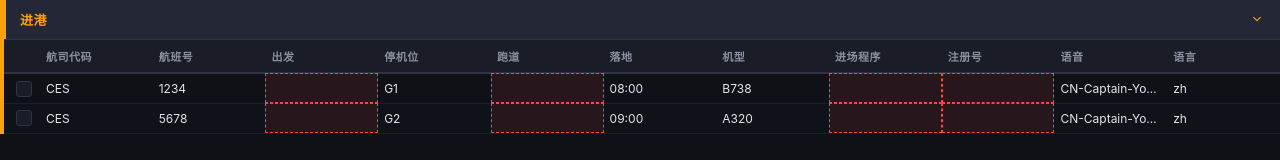
Test: FlightTable — Voice dropdown is constrained to the flight Language › keeps a legacy mismatched current voice selectable (never blank)
Step 1. Click the cell "CN-Captain-Young-EN" → (1111, 118), box [1054, 103, 1167, 133]
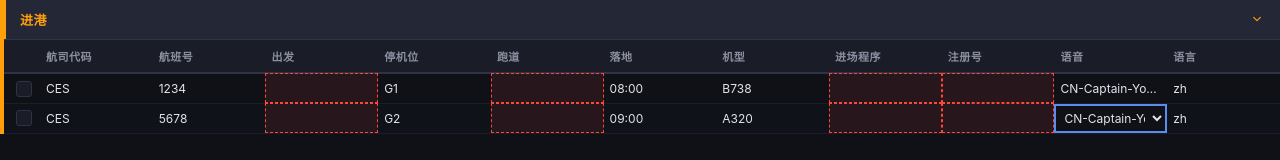
Now the dropdown with class "cell-widget" is shown, box [1054, 104, 1167, 132]
